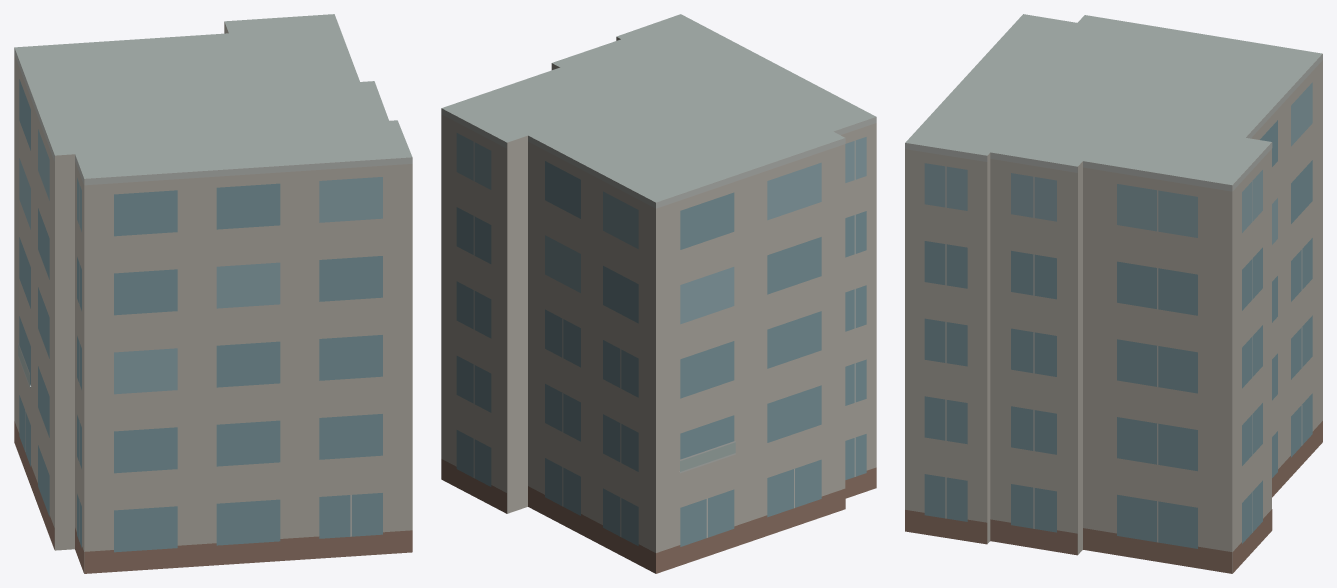
The model's file is survey-upis-32739810.glb.
3 views of the same model, side by side, from view 1: azimuth 30°, elevation 25°; view 2: azimuth 150°, elevation 25°; view 3: azimuth 270°, elevation 25° (orthographic). The views are drawn at different scales.
Visible parts, largest first — view 1: survey-upis-32739810.tmp; view 2: survey-upis-32739810.tmp; view 3: survey-upis-32739810.tmp.
Boxes of the visible parts, bbox=[...] form: survey-upis-32739810.tmp: bbox=[14, 14, 412, 573]; survey-upis-32739810.tmp: bbox=[441, 14, 876, 573]; survey-upis-32739810.tmp: bbox=[905, 14, 1322, 573].
Size of the model in its own units: 14.09 by 14.9 by 14.52.
